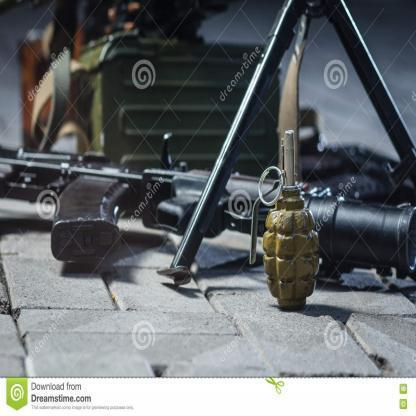Grenade: (251, 131, 321, 309)
Gun: (0, 132, 415, 271)
